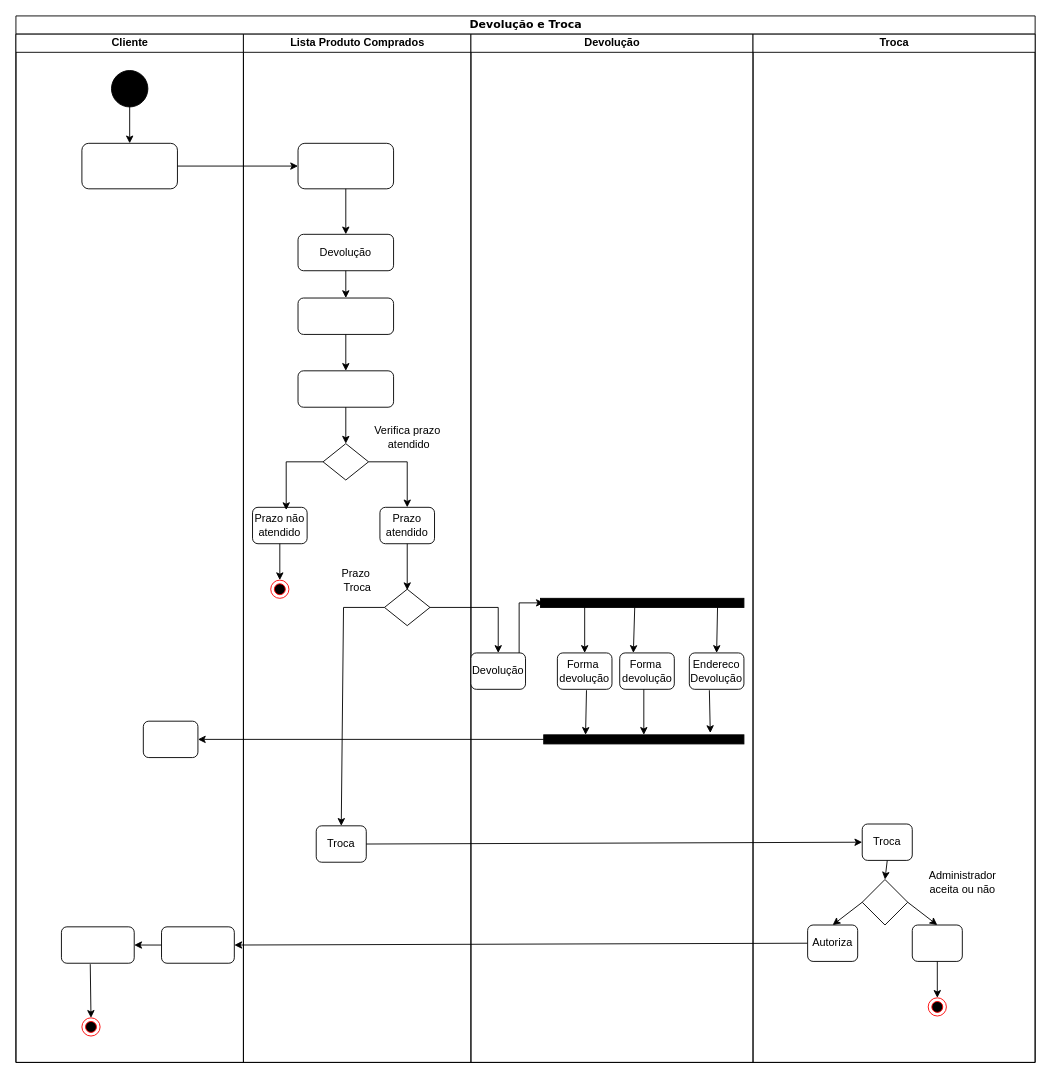
This 1051x1078 diagram has some shape labels left out. Each missing label, with the centre of its shape:
Cupom Troca: (97,944)
Devolução | Troca: (129,165)
Devolva Produto: (197,944)
Envia Produto: (170,739)
Não autoriza: (936,942)
Seleciona Itens devolver: (345,315)
Seleciona motivo devolução: (345,388)
Visualiza itens comprados: (345,165)
